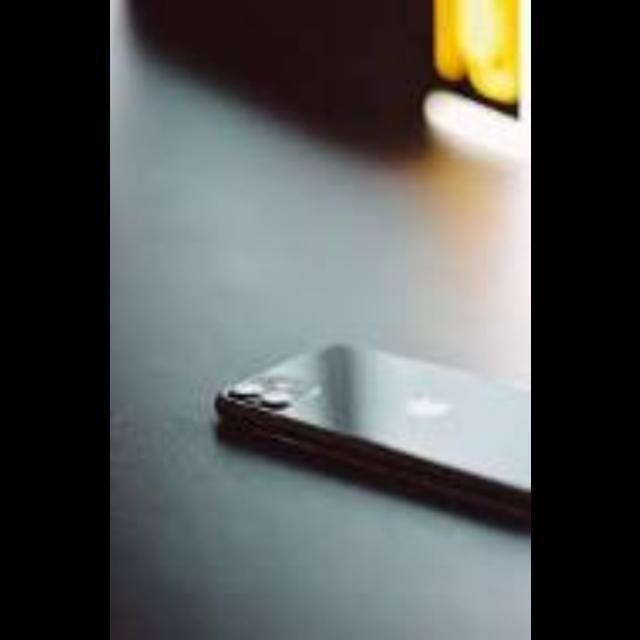phone: (187, 284, 528, 555)
